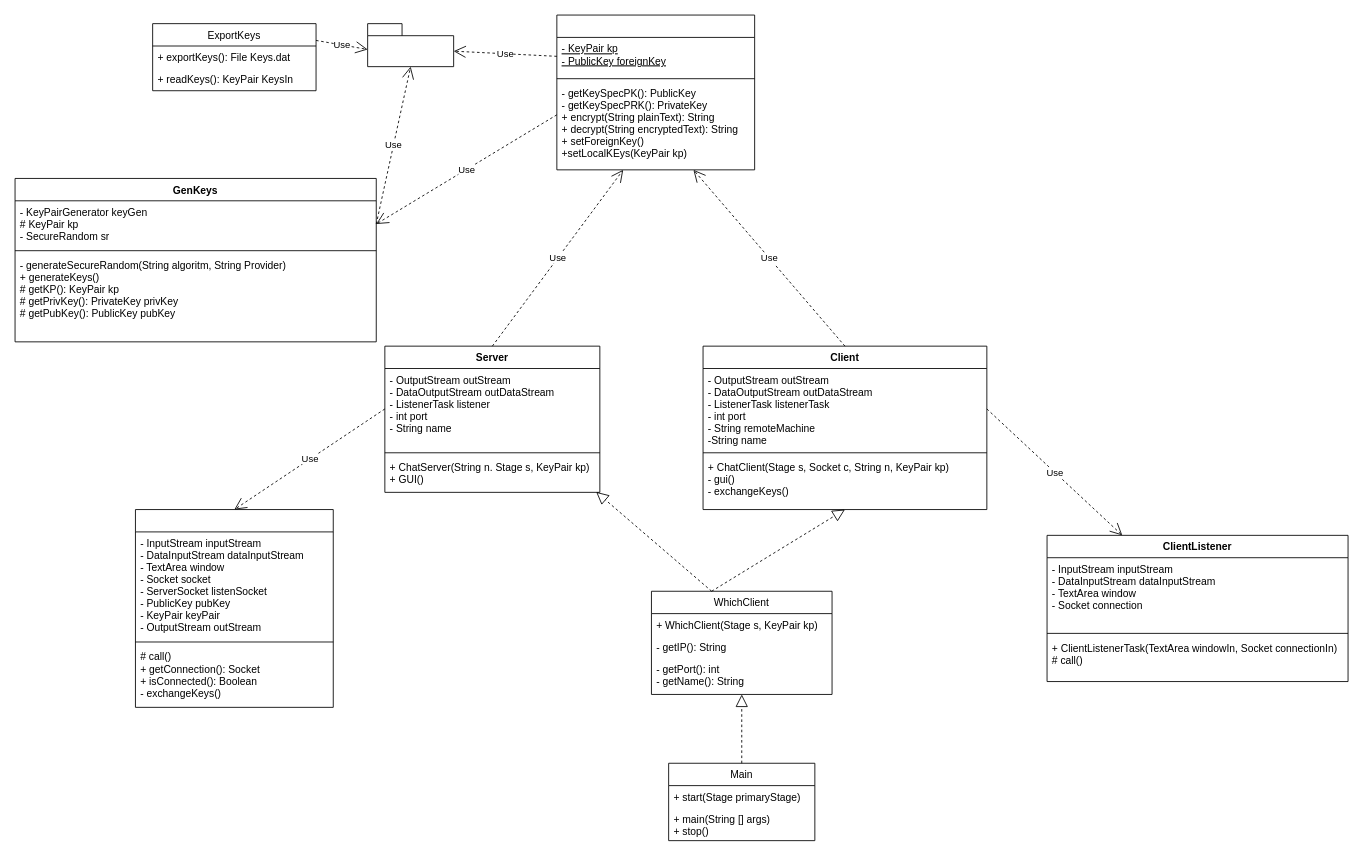
Some shapes in this 1363 by 858 pixel diagram are drawn without their labels. Here are the shapes that lost their labels. From the top down, the box of each, then its label:
(367, 23, 454, 67): java.Security
(556, 14, 755, 170): Crypto
(135, 509, 333, 707): Server Listener
